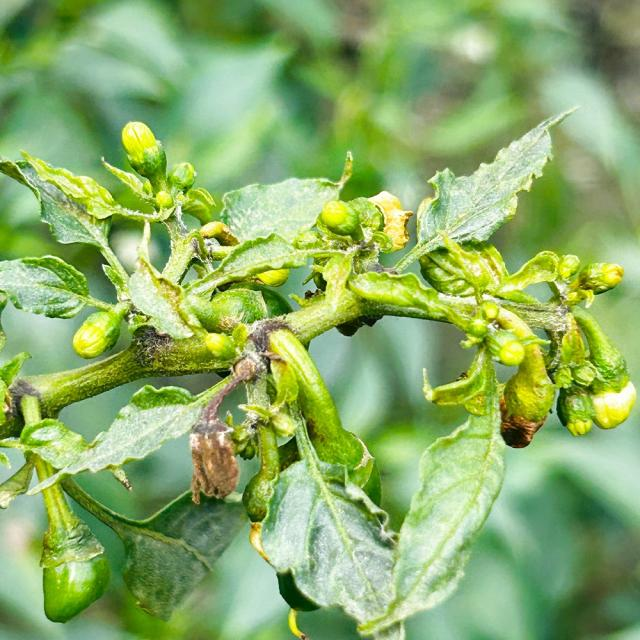Chilli_Leaf_Curl: (1, 105, 636, 637), (392, 104, 580, 272)
